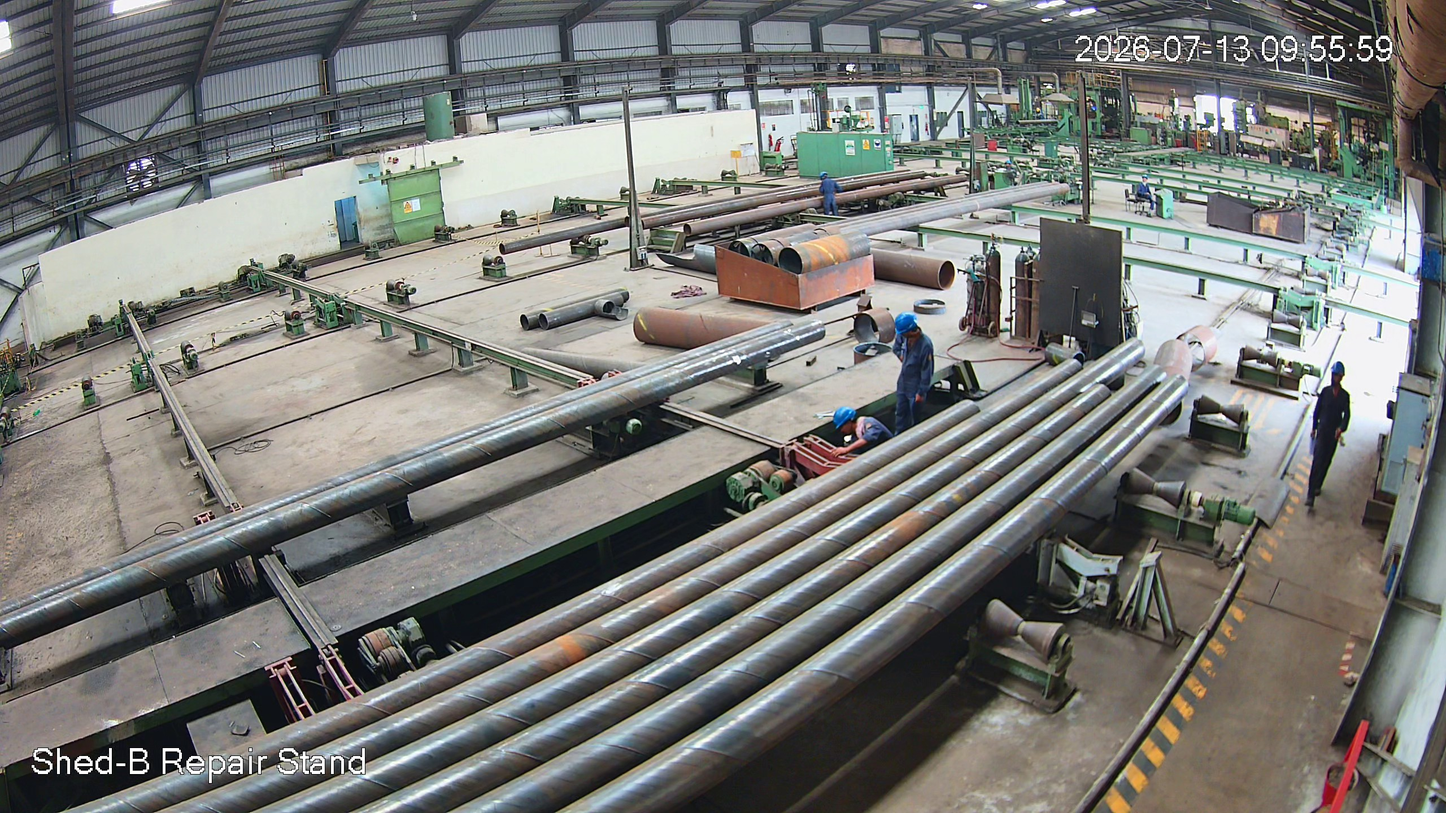Helmet: (891, 311, 924, 343), (1325, 358, 1352, 394), (831, 406, 861, 436), (818, 169, 829, 181)
Person: (1304, 358, 1357, 517), (886, 313, 935, 433), (829, 408, 901, 455), (818, 171, 843, 216)
